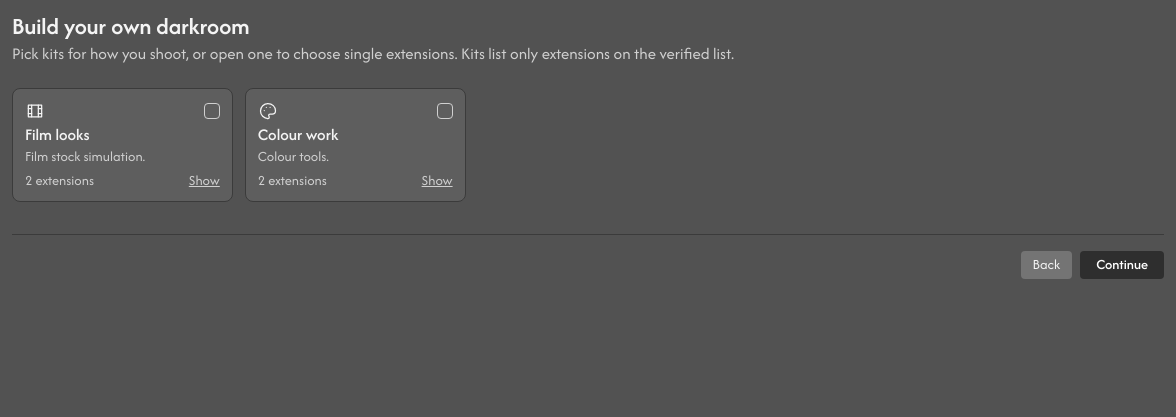
KitsStep › shows an installed extension as installed and doesn't count it
This screenshot has width=1176, height=417.
Check: the checkbox labelled "Film looks" is shown, box [25,101,220,165]
Click the button with aria-label "Show Film looks extensions" at (204, 181), box [189,173,220,189]
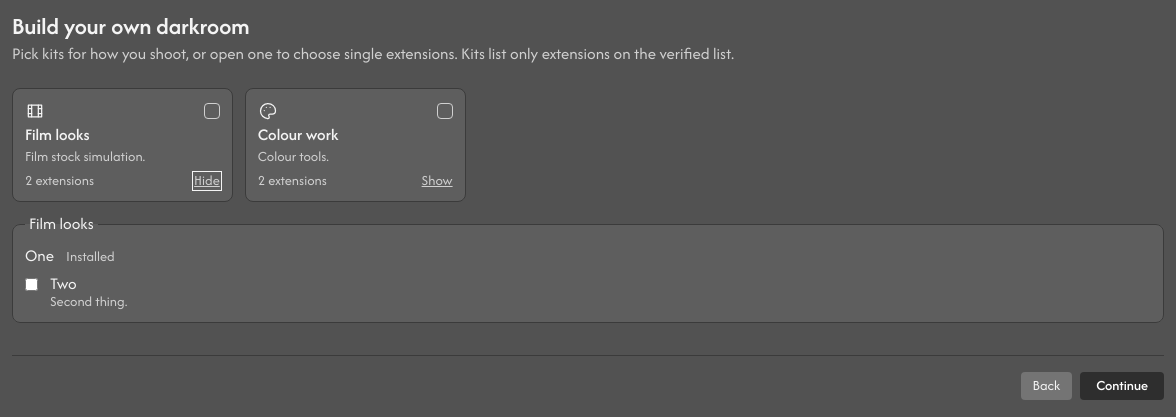
Check: the text "Installed" is shown, box [66,249,115,265]
Click the checkbox labelled "Film looks" at (122, 133), box [25,101,220,165]
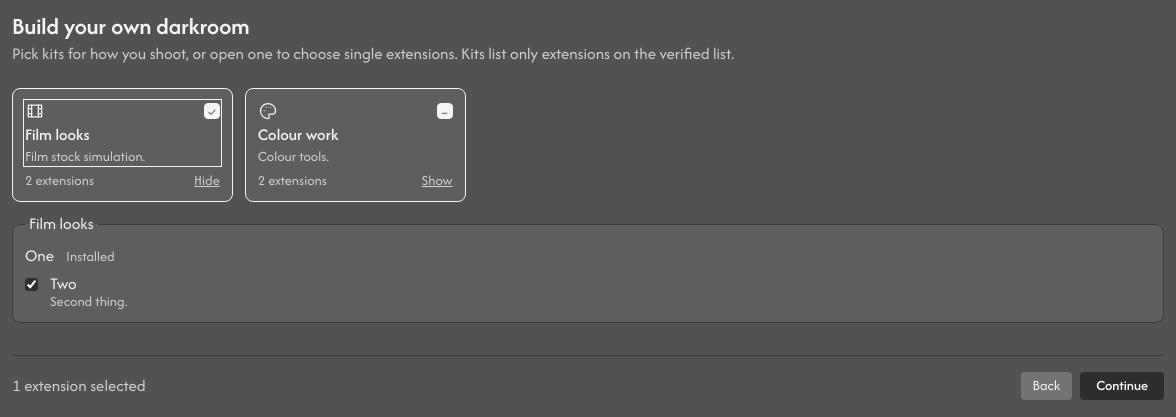
Check: the text "1 extension selected" is shown, box [12,376,146,396]
